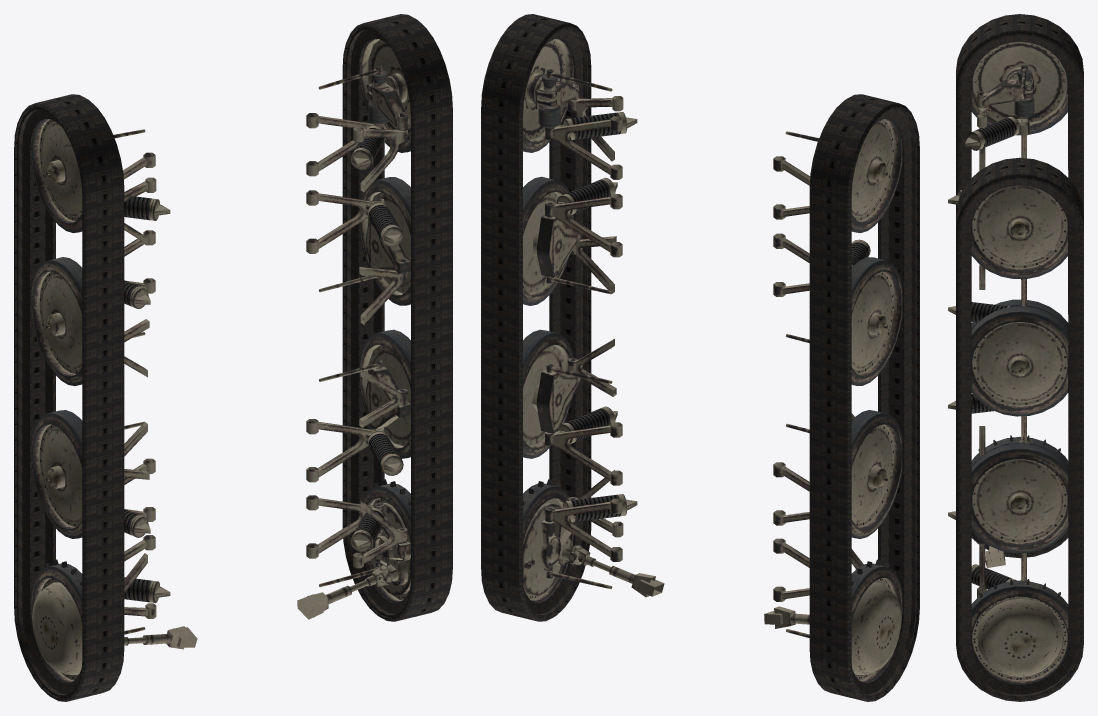
The model's file is Chassis.glb.
The picture shows the model from 3 angles, left to right: view 1: azimuth 30°, elevation 25°; view 2: azimuth 150°, elevation 25°; view 3: azimuth 270°, elevation 25°; orthographic projection. The views are drawn at different scales.
Visible parts, largest first — view 1: set_0_group_0, set_1_group_0, set_3_group_0, set_2_group_0; view 2: set_0_group_0, set_1_group_0, set_3_group_0, set_2_group_0; view 3: set_3_group_0, set_1_group_0, set_2_group_0, set_0_group_0.
Part boxes in pixels (x1,y1,x2,y2): set_0_group_0: [14, 94, 124, 701]; set_1_group_0: [342, 14, 452, 621]; set_3_group_0: [297, 38, 410, 619]; set_2_group_0: [31, 119, 197, 682]; set_0_group_0: [809, 94, 919, 701]; set_1_group_0: [481, 14, 591, 621]; set_3_group_0: [523, 38, 664, 602]; set_2_group_0: [764, 119, 902, 682]; set_3_group_0: [948, 185, 1068, 684]; set_1_group_0: [956, 157, 1083, 701]; set_2_group_0: [948, 41, 1068, 567]; set_0_group_0: [956, 14, 1083, 558].
Size of the model in its own units: 2.44 by 3.68 by 0.8579.
4 materials, 4 textured.
